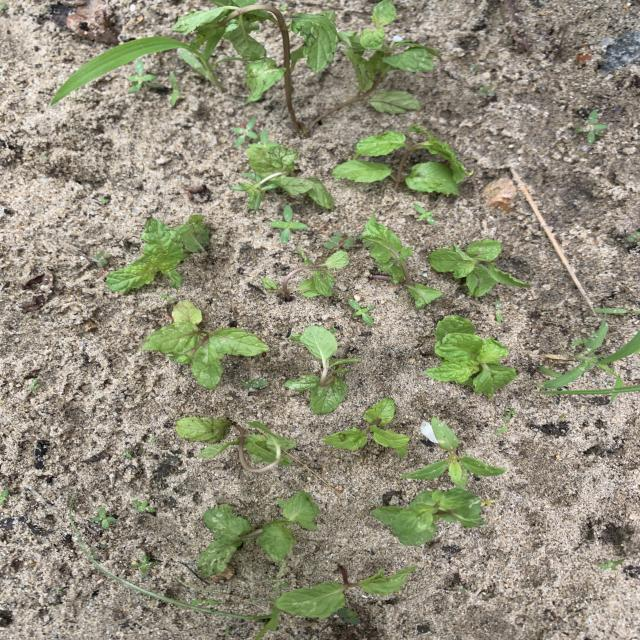crop: (172, 0, 327, 137), (315, 0, 438, 123), (142, 300, 267, 387), (197, 492, 317, 575), (334, 126, 470, 195), (107, 215, 209, 291), (362, 216, 442, 307), (403, 417, 505, 488), (425, 316, 515, 395), (277, 567, 415, 618), (286, 326, 362, 413), (247, 132, 333, 207), (373, 489, 488, 545), (176, 419, 295, 471), (429, 239, 530, 295), (262, 248, 348, 298), (324, 398, 401, 451)
weed: (52, 38, 190, 103), (542, 332, 639, 390), (231, 171, 272, 209), (270, 206, 306, 243), (575, 110, 607, 143), (128, 61, 158, 91), (234, 118, 259, 146), (351, 300, 374, 324), (93, 507, 115, 528), (324, 233, 355, 247), (132, 553, 155, 571), (415, 204, 434, 224), (270, 576, 289, 594), (169, 72, 178, 105), (339, 609, 359, 623), (132, 500, 155, 512), (600, 559, 623, 570), (243, 379, 267, 389), (94, 251, 110, 266), (595, 308, 628, 315), (627, 231, 639, 247), (189, 600, 218, 606), (478, 85, 494, 95), (28, 378, 39, 391), (504, 408, 515, 420), (0, 489, 7, 505), (161, 295, 175, 303), (224, 625, 231, 633)
